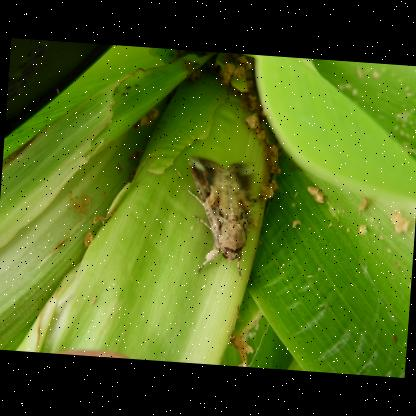Fall Armyworm Moth: (178, 151, 261, 283)
